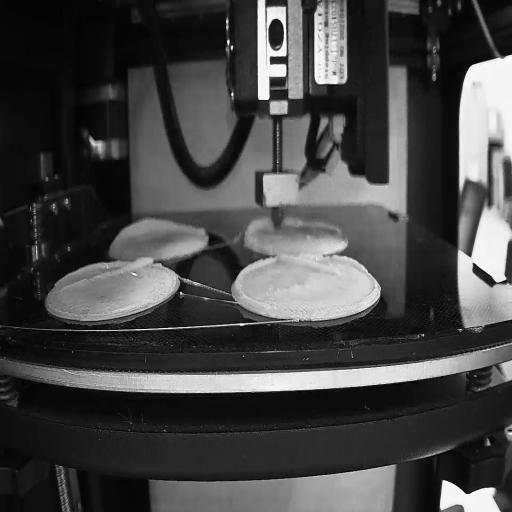over_extrusion: (63, 254, 155, 292), (111, 215, 208, 247), (234, 256, 276, 309), (278, 252, 368, 276), (242, 216, 272, 244)
